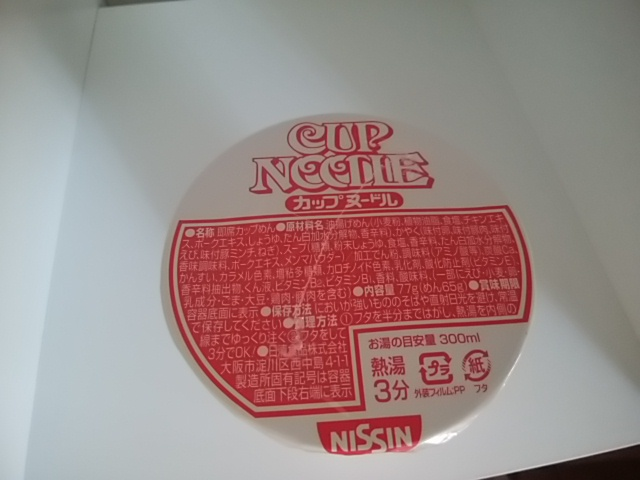cup-ramen: (158, 106, 543, 461)
